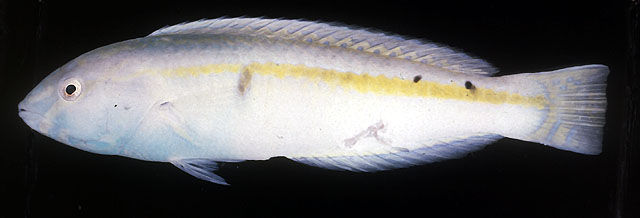fish: (18, 16, 611, 186)
